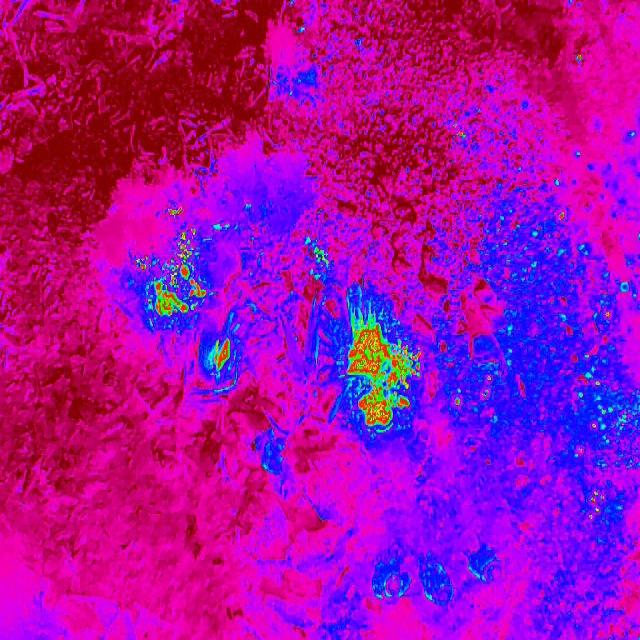fire: (496, 210, 640, 525), (342, 310, 423, 434), (132, 227, 206, 319), (448, 368, 498, 411), (299, 238, 333, 280), (207, 337, 234, 372), (448, 122, 474, 148), (572, 47, 588, 67), (166, 202, 184, 218)
